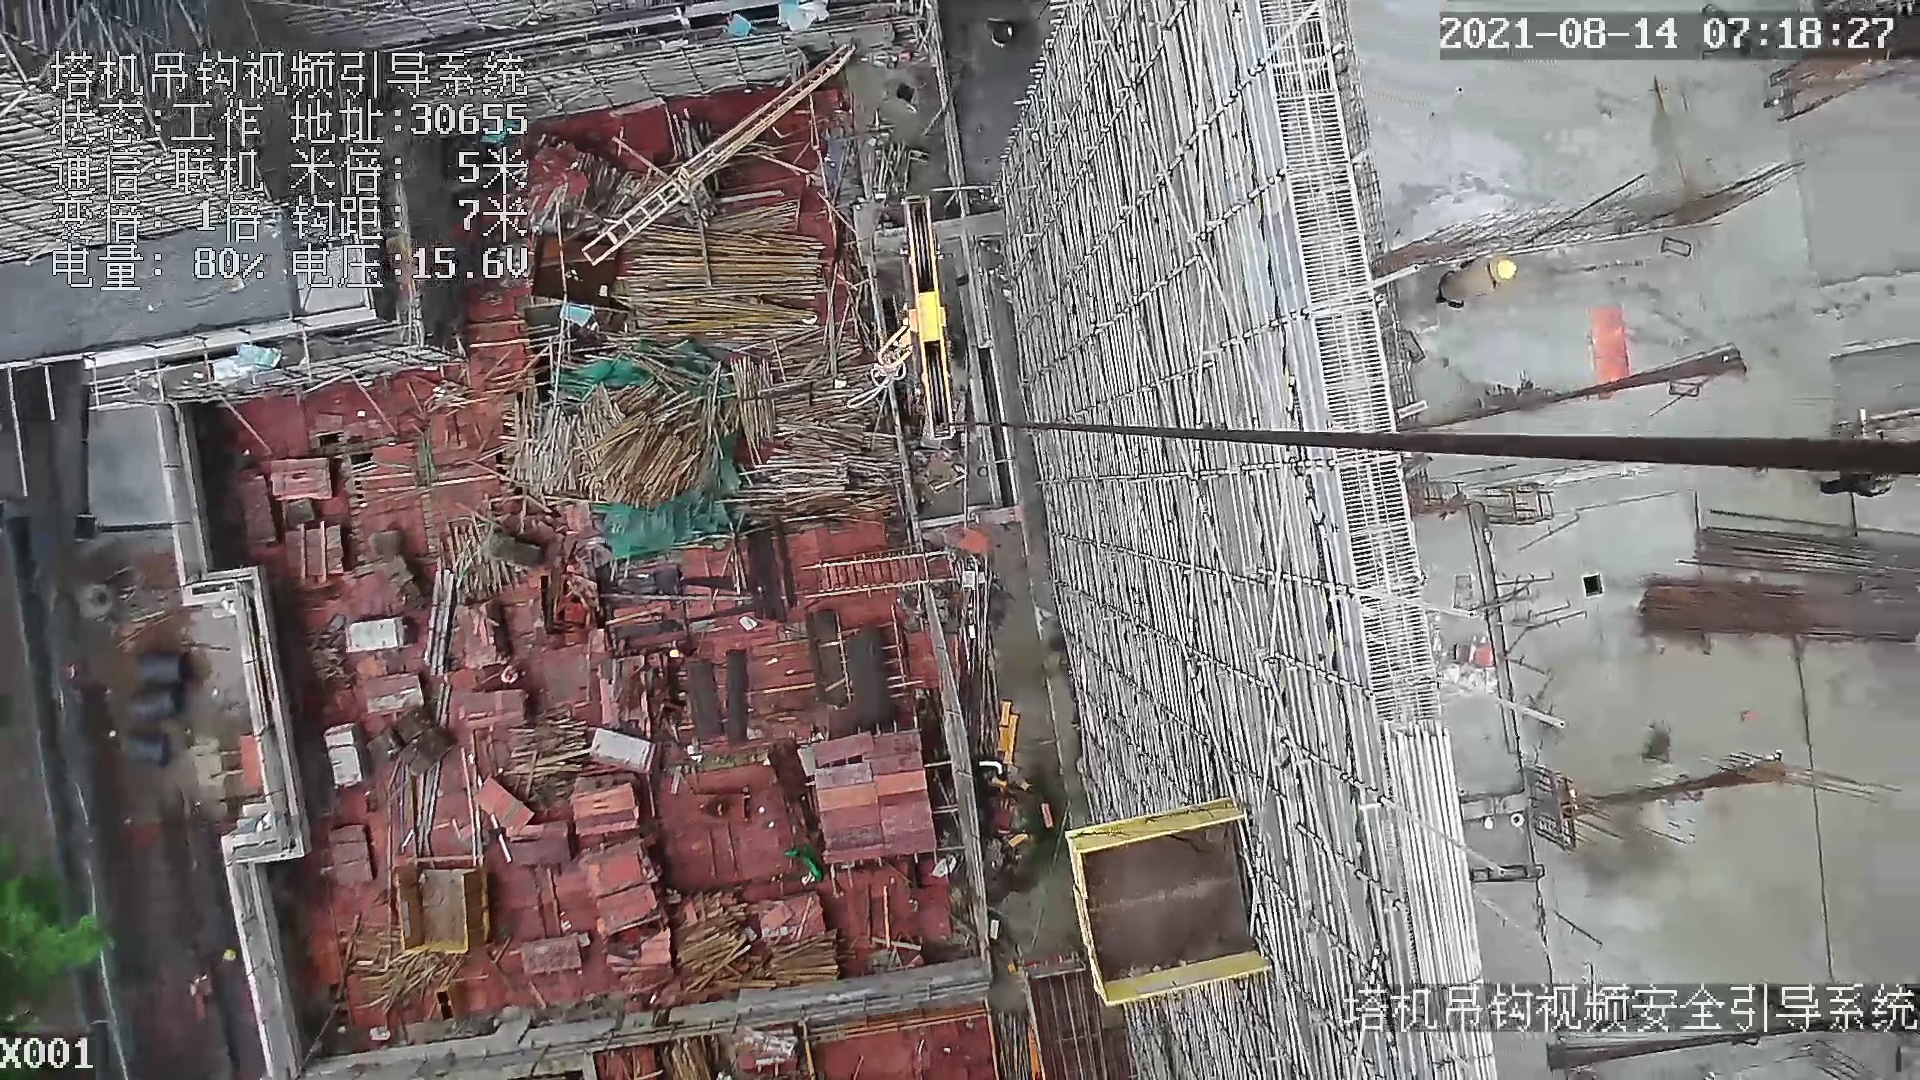helmet: (1495, 258, 1515, 287)
hook: (873, 192, 963, 439)
person: (1442, 250, 1514, 313)
